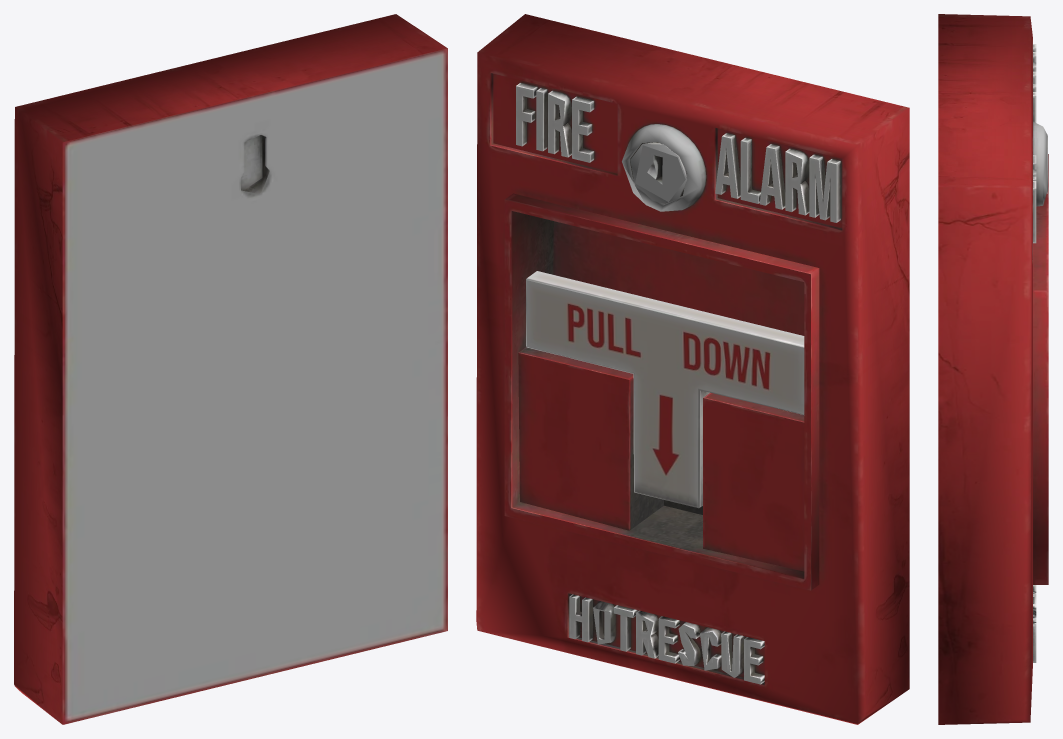
Rendered from fireAlarm_hq.glb.
The picture shows the model from 3 angles, left to right: view 1: azimuth 30°, elevation 25°; view 2: azimuth 150°, elevation 25°; view 3: azimuth 270°, elevation 25°; orthographic projection. The views are drawn at different scales.
Parts seen in each view (by area): view 1: fire_alarm; view 2: fire_alarm; view 3: fire_alarm.
Part boxes in pixels (box(x1,y1,x2,y2)): fire_alarm: box(14, 14, 447, 724); fire_alarm: box(476, 14, 909, 724); fire_alarm: box(938, 14, 1048, 724).
Size of the model in its own units: 0.0995 by 0.1429 by 0.0264.
1 material, 1 textured.
